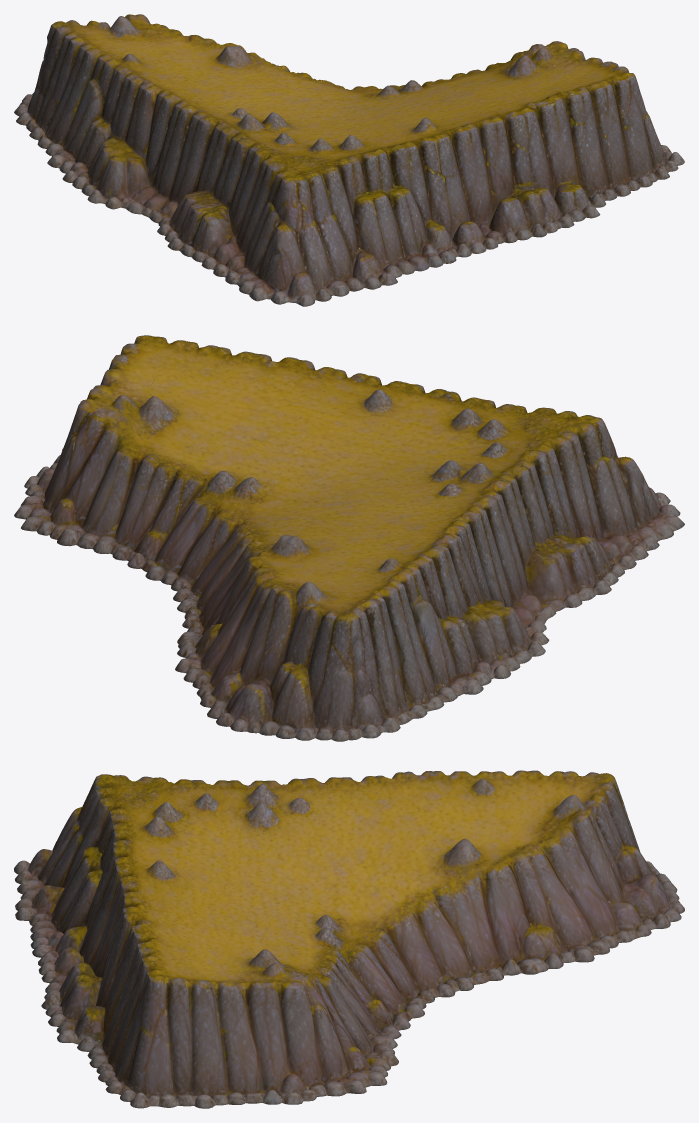
Rendered from cliff_headland.glb.
3 views of the same model, one above another, from view 1: azimuth 30°, elevation 25°; view 2: azimuth 150°, elevation 25°; view 3: azimuth 270°, elevation 25° (orthographic). The views are drawn at different scales.
Parts seen in each view (by area): view 1: material; view 2: material; view 3: material.
Part boxes in pixels (bbox=[...]): material: bbox=[14, 14, 684, 306]; material: bbox=[14, 335, 684, 741]; material: bbox=[14, 770, 684, 1108].
Bounding box in the file's own units: 0.9078 × 0.1767 × 0.9512.
1 material, 1 textured.
